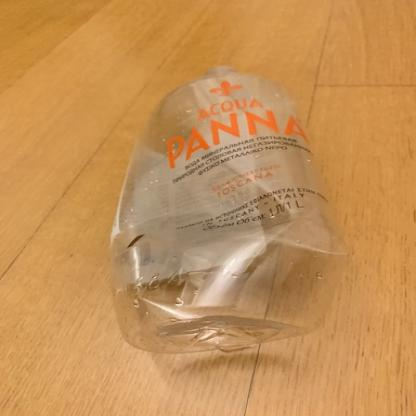trash: (107, 66, 360, 359)
